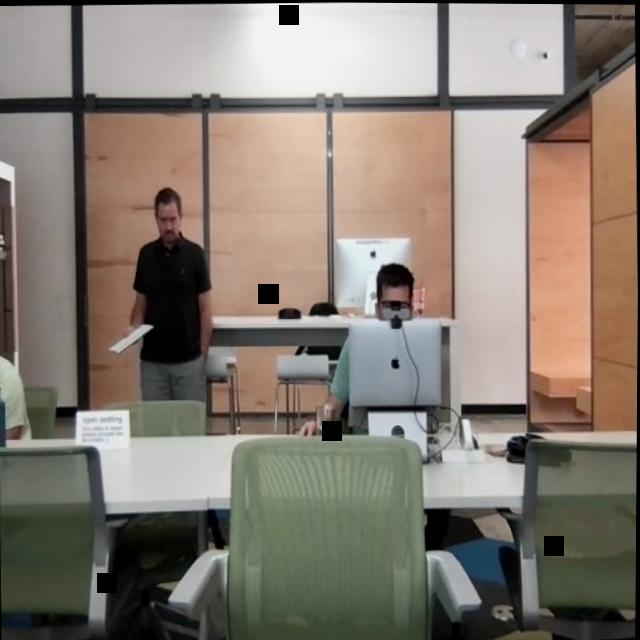NO-Mask: (154, 185, 182, 244)
